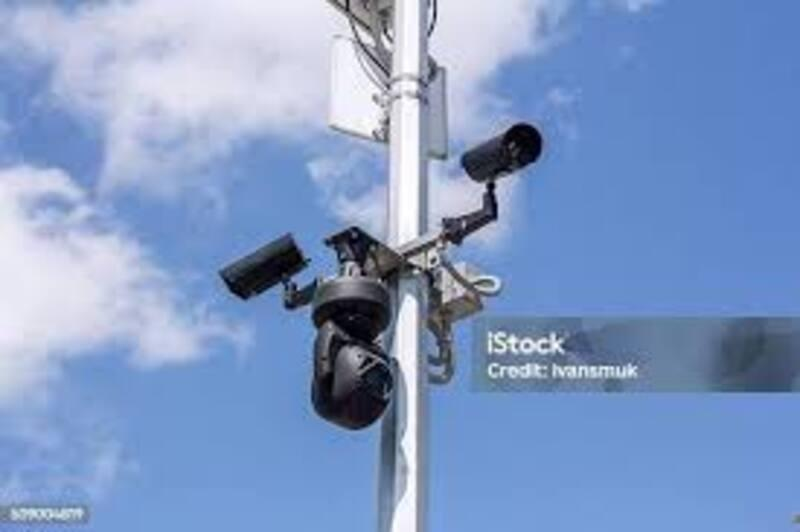bullet: (210, 267, 291, 320)
doorbell: (445, 159, 536, 212)
ptz: (307, 283, 413, 443)
